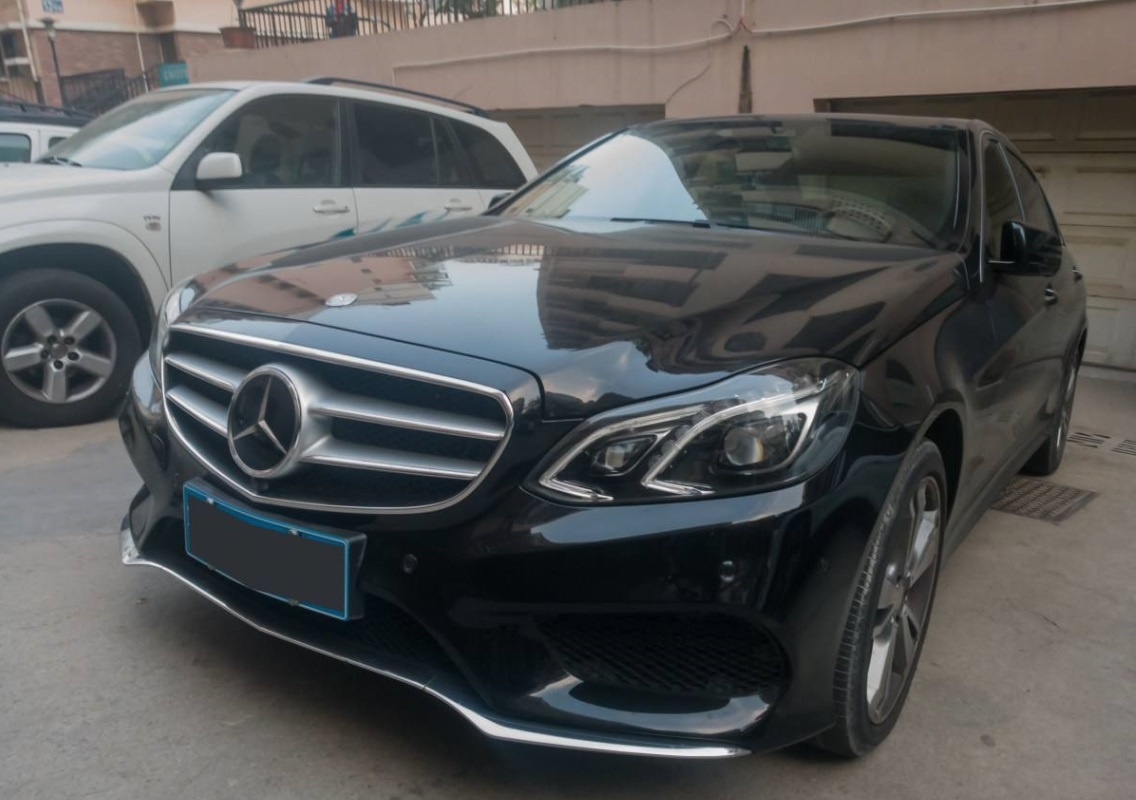SUV: (27, 68, 476, 390)
family sedan: (131, 87, 1098, 758)
